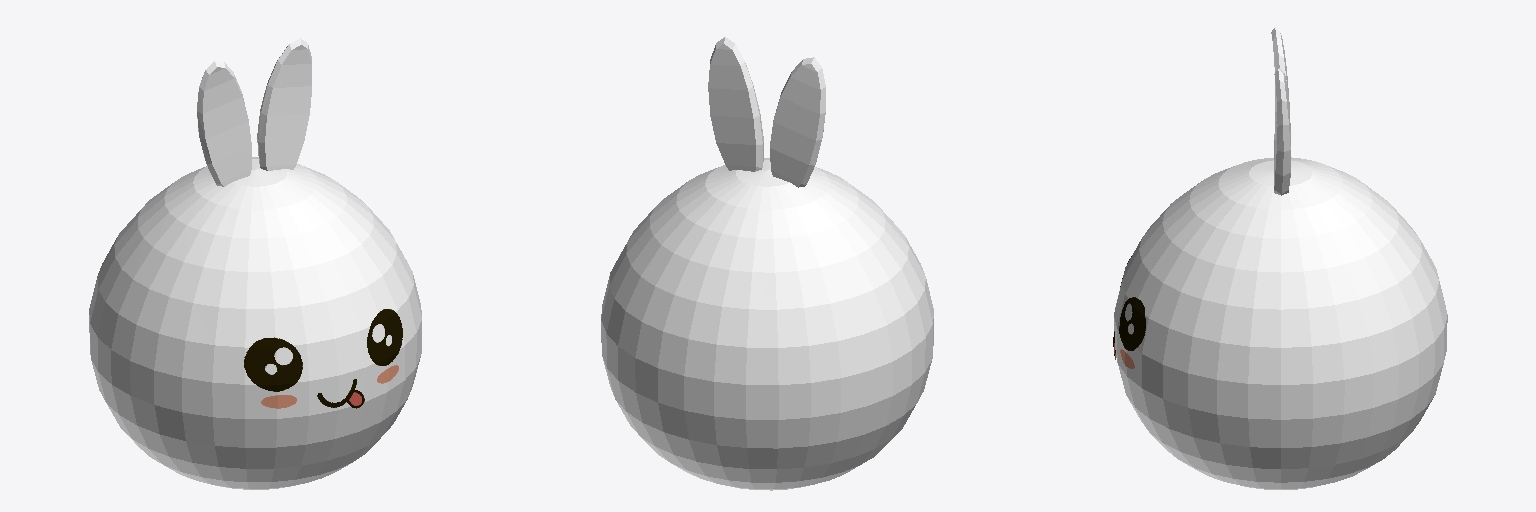
The picture shows the model from 3 angles: view 1: azimuth 30°, elevation 25°; view 2: azimuth 150°, elevation 25°; view 3: azimuth 270°, elevation 25°; orthographic projection.
Parts seen in each view (by area): view 1: Slime_02; view 2: Slime_02; view 3: Slime_02.
Part boxes in pixels (left/top/right/bottom): Slime_02: left=89, top=38, right=421, bottom=489; Slime_02: left=601, top=37, right=933, bottom=490; Slime_02: left=1113, top=27, right=1447, bottom=489.
Size of the model in its own units: 0.6144 by 0.8444 by 0.6171.
Materials: 2 (1 with a texture image).